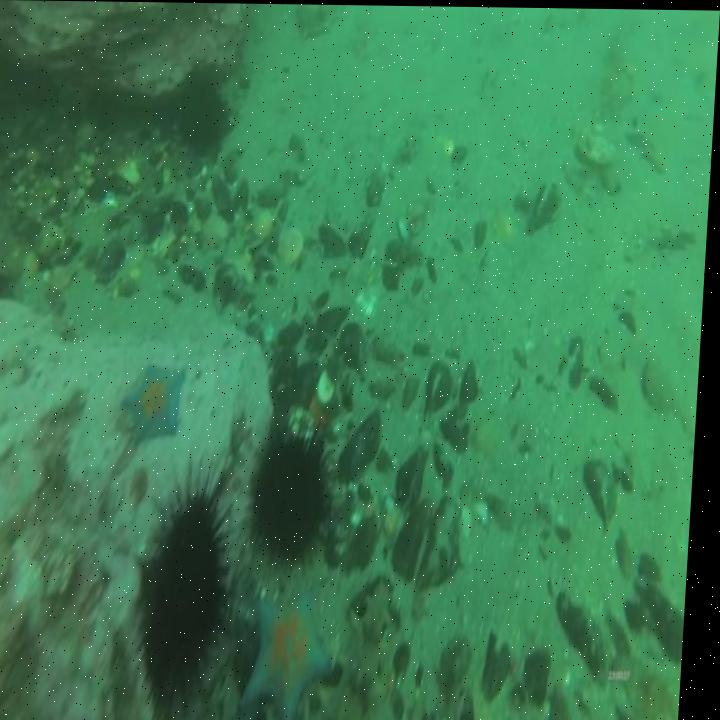echinus: (146, 495, 234, 696), (258, 437, 334, 553), (176, 79, 227, 150)
scallop: (279, 224, 309, 268)
starfish: (250, 585, 339, 720), (123, 361, 191, 441)
